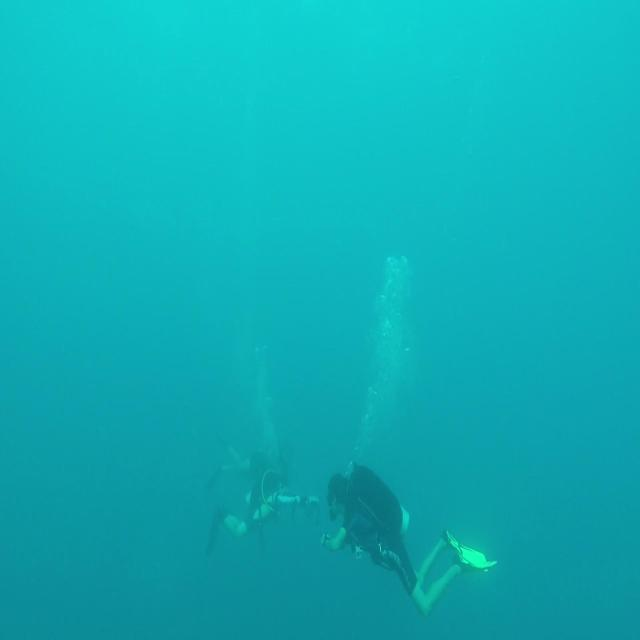human: (321, 460, 497, 617), (204, 436, 320, 555)
